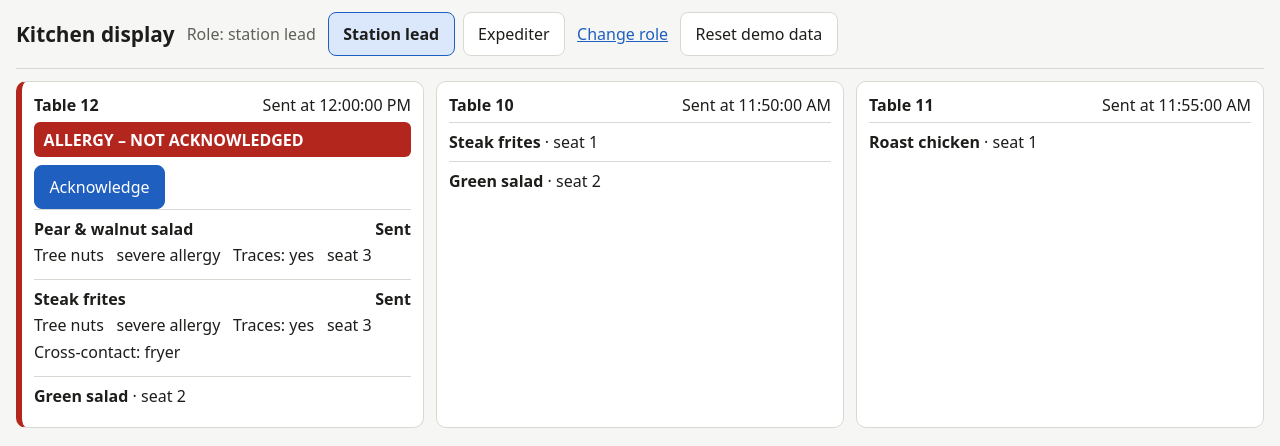
Test: US3 kitchen display › REQ-09: "Acknowledge" removes the label and the allergy items show "Acknowledged" (scenario 4)
Click the button "Acknowledge": (99,187) x1=34 y1=165 x2=165 y2=209
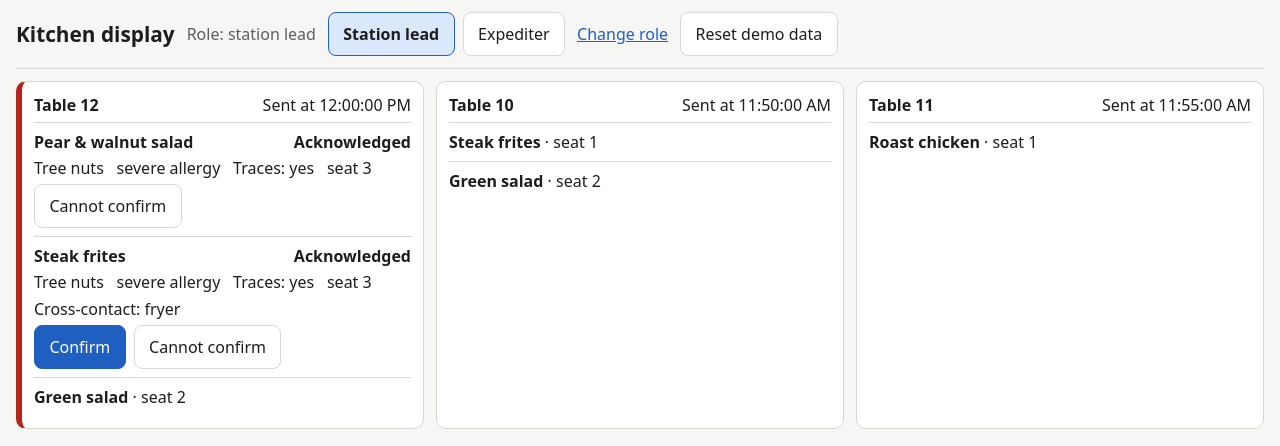
Expected: the text with test id "ticket" no longer shows "ALLERGY – NOT ACKNOWLEDGED"
Expected: the text with test id "kitchen-status" next to "Pear & walnut salad" reads "Acknowledged", x1=294 y1=131 x2=411 y2=153
Expected: the 2nd text with test id "kitchen-status" reads "Acknowledged", x1=294 y1=245 x2=411 y2=267
